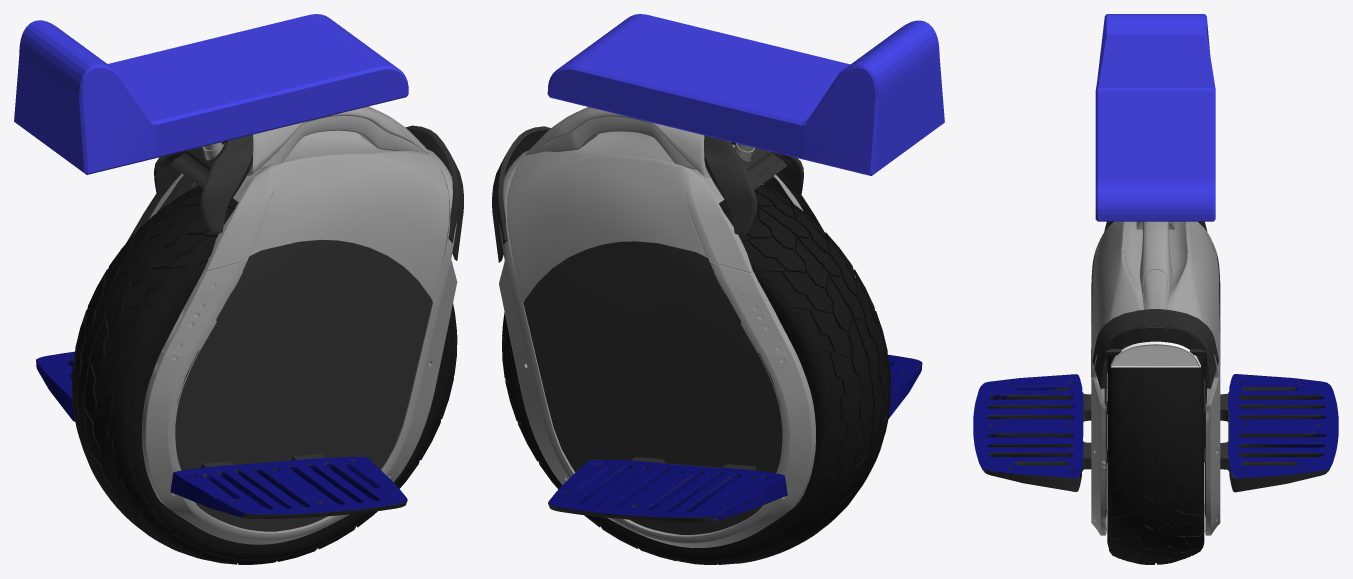
File: Unicycle_blue.fbx
The picture shows the model from 3 angles, left to right: view 1: azimuth 30°, elevation 25°; view 2: azimuth 150°, elevation 25°; view 3: azimuth 270°, elevation 25°; orthographic projection. The views are drawn at different scales.
Parts seen in each view (by area): view 1: 3.001, 5.001, Plane.002, 1.001, 6.001; view 2: 3.001, 5.001, Plane.002, 1.001, 6.001; view 3: 6.001, Plane.002, 1.001, 5.001, 2.001.
Part boxes in pixels (box(x1,y1,x2,y2)): 3.001: box(174, 239, 432, 531); 5.001: box(141, 106, 457, 544); Plane.002: box(14, 14, 408, 174); 1.001: box(72, 186, 457, 564); 6.001: box(36, 125, 463, 518); 3.001: box(523, 241, 783, 534); 5.001: box(499, 107, 815, 547); Plane.002: box(547, 14, 944, 175); 1.001: box(502, 184, 891, 564); 6.001: box(492, 126, 922, 522); 6.001: box(973, 221, 1338, 517); Plane.002: box(1095, 14, 1215, 221); 1.001: box(1107, 327, 1204, 564); 5.001: box(1091, 221, 1220, 535); 2.001: box(1110, 341, 1200, 367).
Size of the model in its own units: 157 by 155 by 213.
